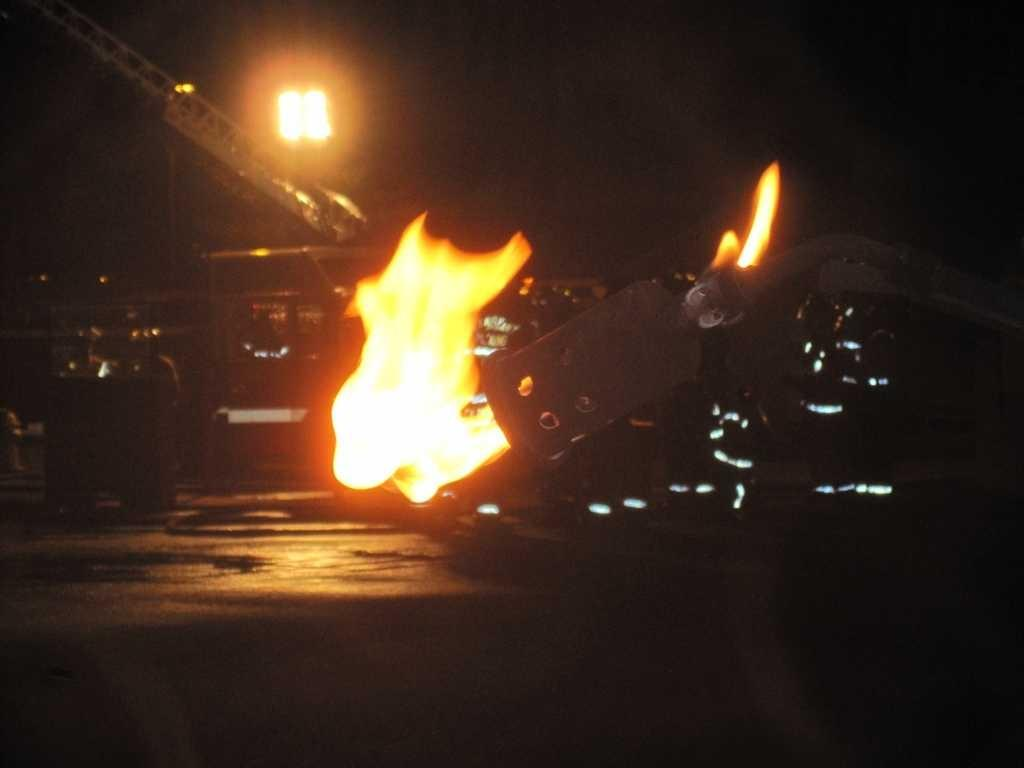fire: (331, 227, 515, 505)
